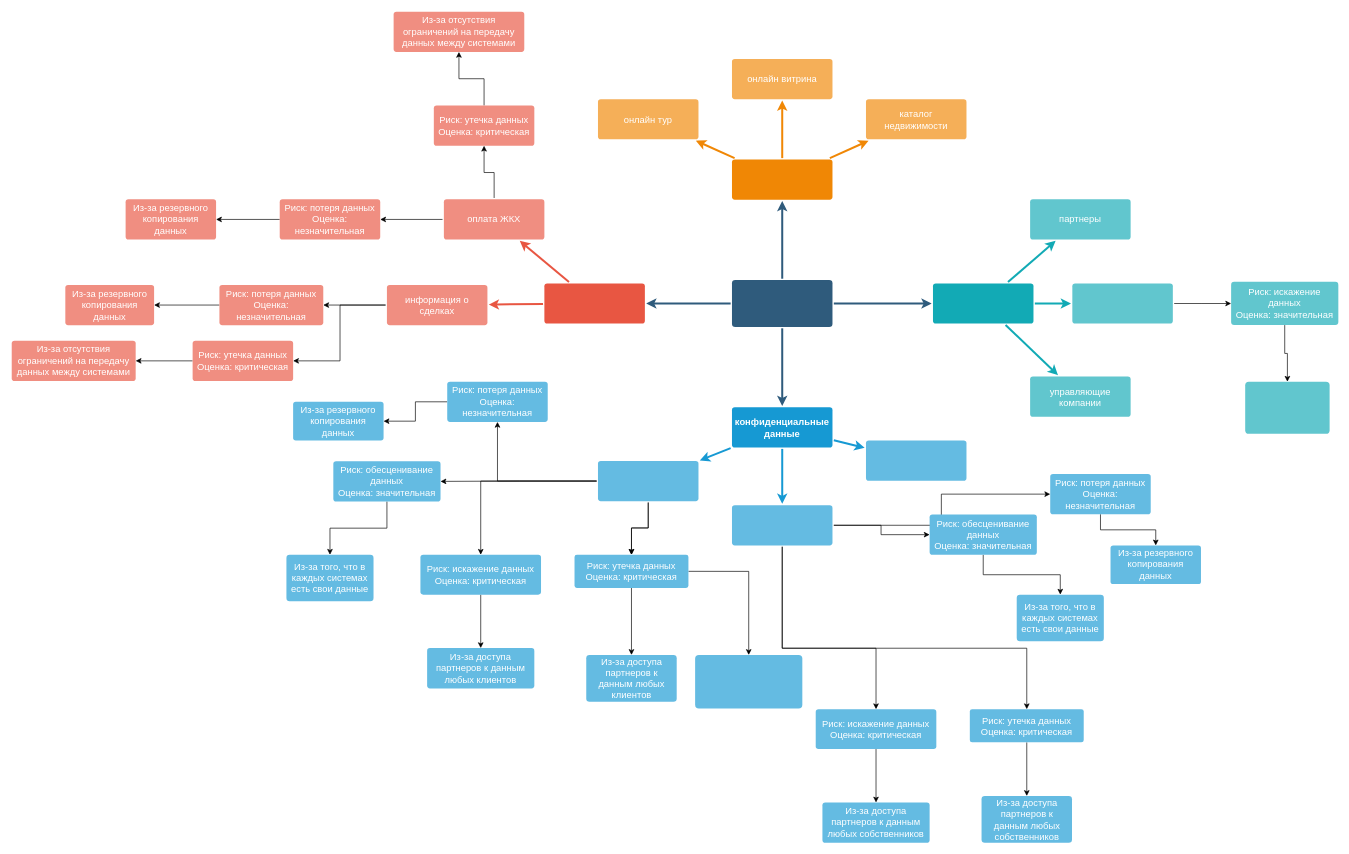
The diagram is 1349 pixels wide and 854 high, and some of its shapes have lost their labels. The shapes that lost their labels are listed below. From the top down, each one's centre as x and y in pixels, then its label:
the point at 782,179: публичные данные
the point at 594,303: секретные данные
the point at 782,303: Безопасность данных
the point at 983,303: внутренние данные
the point at 1122,303: информация о ремонте
the point at 1287,407: Из-за доступа партнеров к данным любых о ЖК
the point at 916,460: данные умного дома
the point at 648,481: клиенты
the point at 782,525: собственники
the point at 748,681: Из-за возможности одного клиента видеть данные другого клиента
